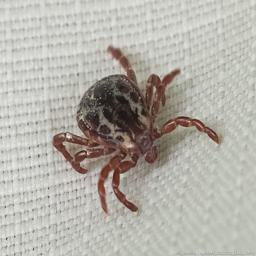Dermacentor variabilis: (25, 113, 175, 256)
